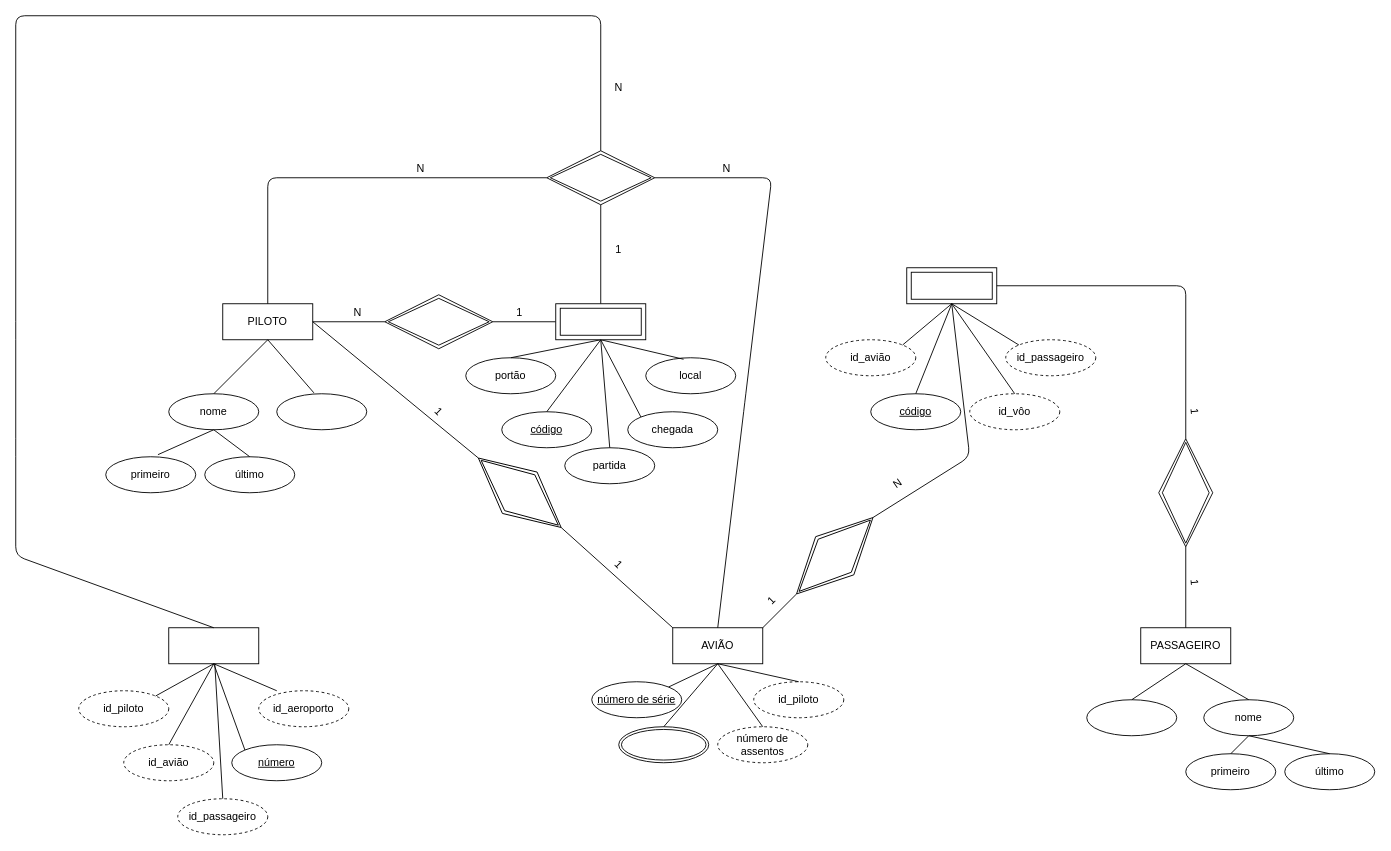
This 1391x851 diagram has some shape labels left out. Each missing label, with the centre of its shape:
AEROPORTO: (x=600, y=321)
ALUGA: (x=1185, y=492)
ASSENTO: (x=951, y=285)
CONTROLA: (x=600, y=177)
documento id: (x=1131, y=717)
id piloto: (x=321, y=411)
modelo: (x=663, y=744)
POSSUI: (x=834, y=555)
TRABALHA_EM: (x=519, y=492)
TRABALHA_PARA: (x=438, y=321)
VÔO: (x=213, y=645)
